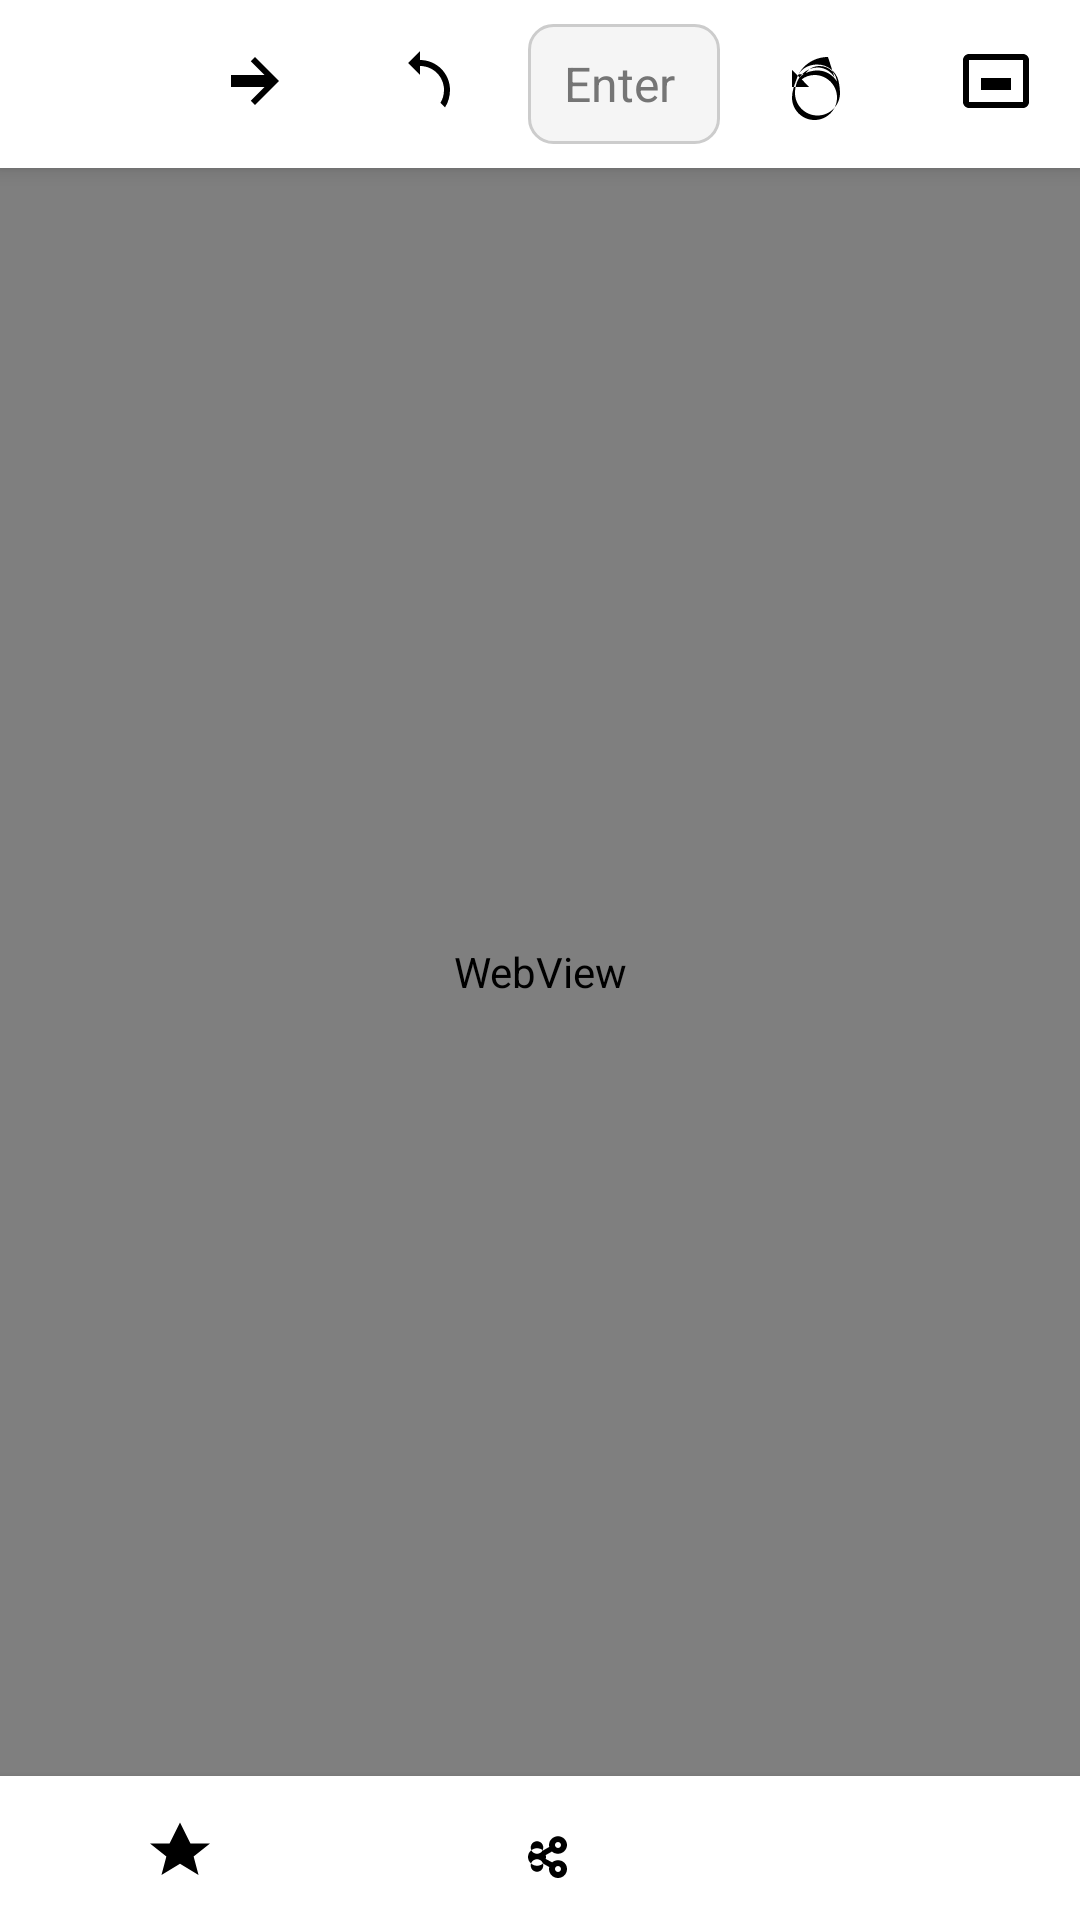

Point at icon controls on the screen. Image size 1080px x 1920px, points as [x,y].
Add Bookmark: [180,1849]
Forward: [255,81]
Share: [547,1857]
